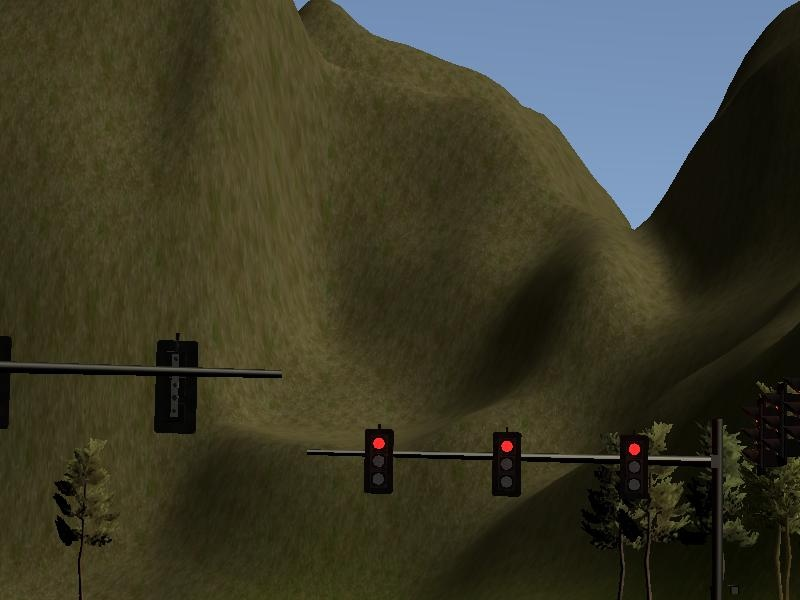RED: (363, 429, 393, 495), (490, 432, 520, 498), (618, 433, 648, 499)
